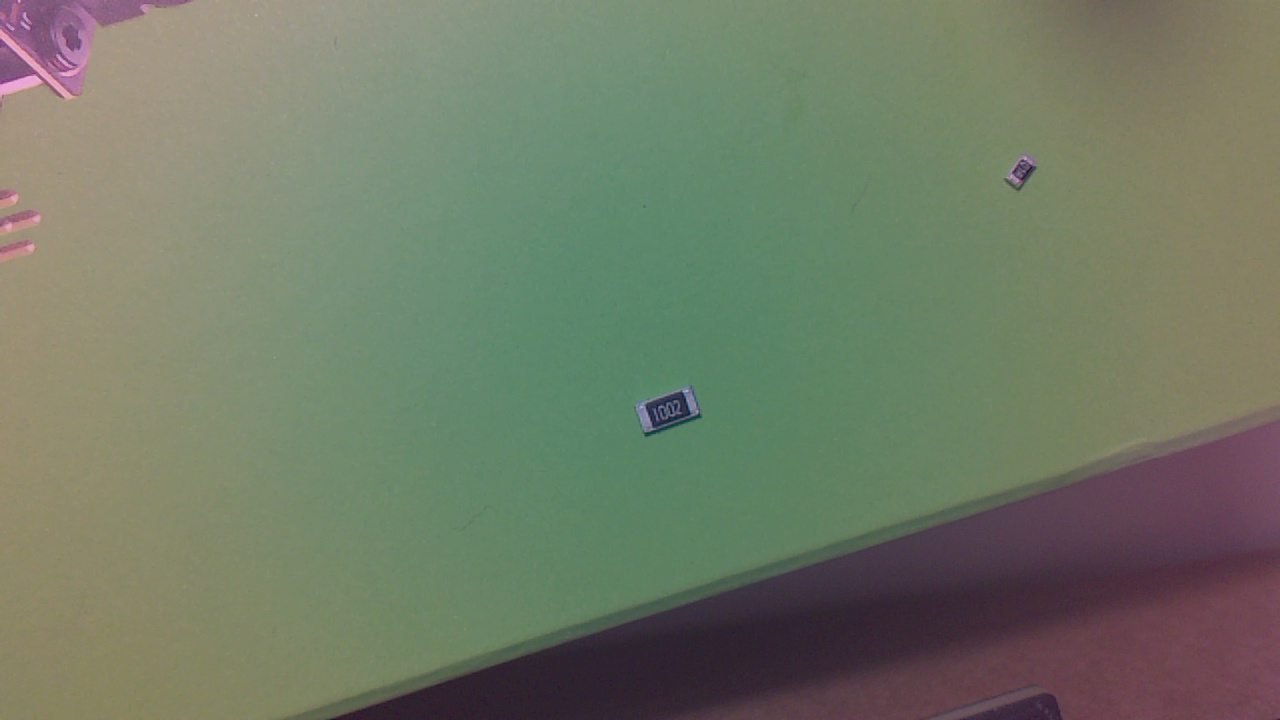Resistor: (638, 392, 705, 444), (1011, 157, 1040, 197)
